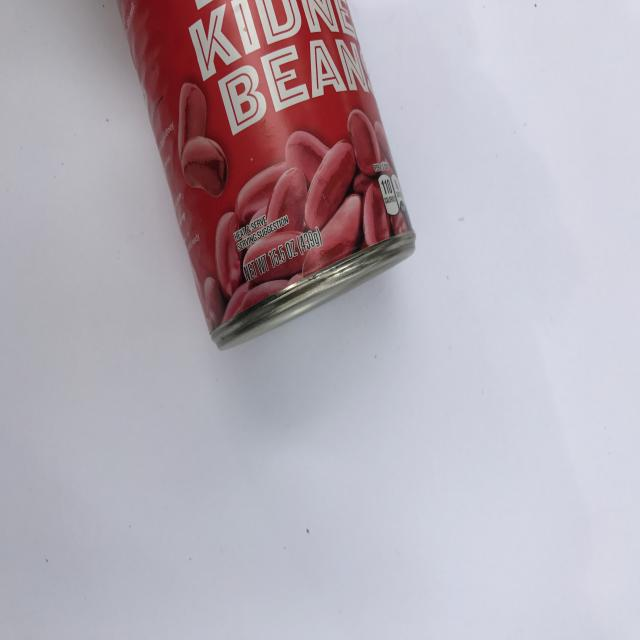metal: (116, 0, 417, 351)
